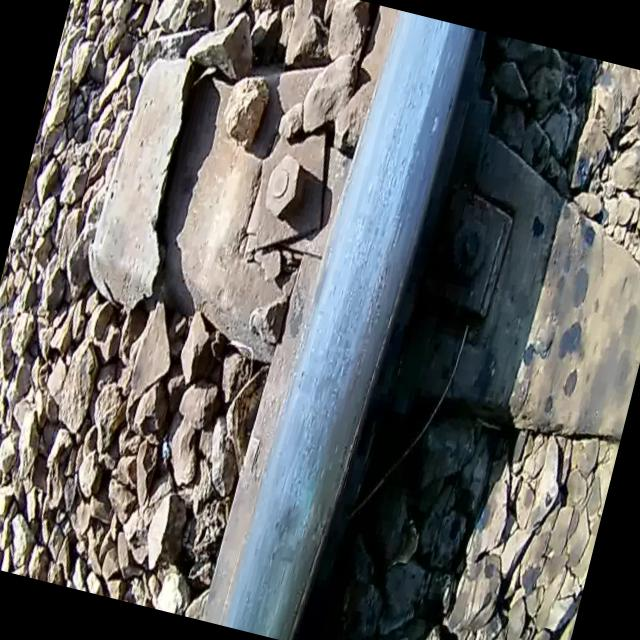Squats: (212, 473, 325, 640)
